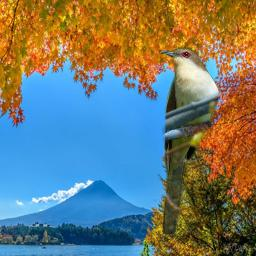Cuckoo: (158, 47, 221, 234)
